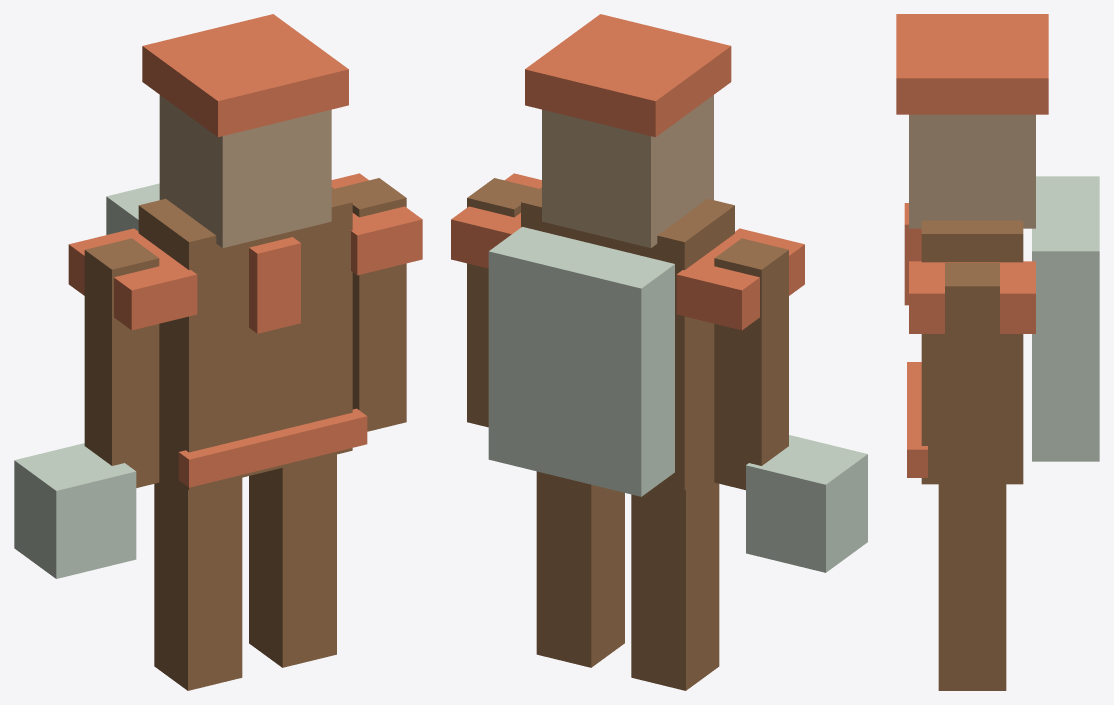
Rendered from 19_cassian_riftwalker_sentinel_of_waystation.glb.
3 views of the same model, side by side, from view 1: azimuth 30°, elevation 25°; view 2: azimuth 150°, elevation 25°; view 3: azimuth 270°, elevation 25° (orthographic).
Parts seen in each view (by area): view 1: Cassian Riftwalker, Sentinel of Waystation; view 2: Cassian Riftwalker, Sentinel of Waystation; view 3: Cassian Riftwalker, Sentinel of Waystation.
Part boxes in pixels (box(x1,y1,x2,y2)): Cassian Riftwalker, Sentinel of Waystation: box(14, 14, 422, 690); Cassian Riftwalker, Sentinel of Waystation: box(451, 14, 867, 690); Cassian Riftwalker, Sentinel of Waystation: box(896, 14, 1099, 690).
Bounding box in the file's own units: 1 × 1.6 × 0.4835.
